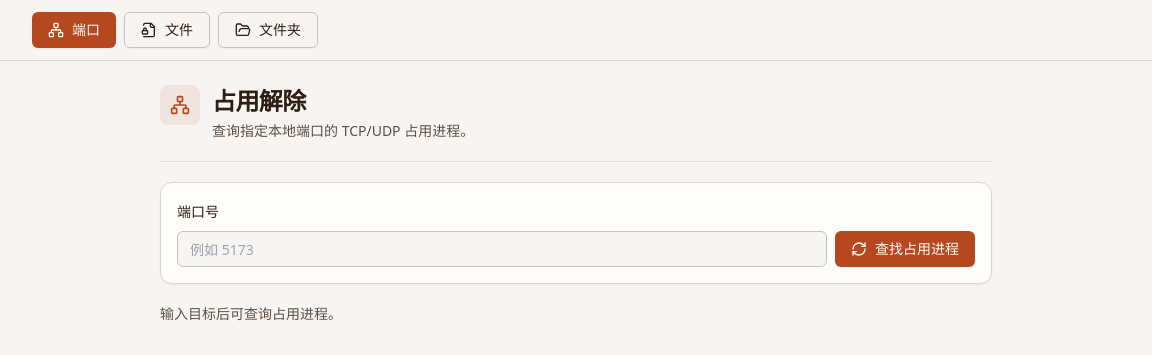
Test: Windows process tools › 拒绝无效端口
Click the button "查找占用进程" at (905, 249), box [835, 231, 975, 267]
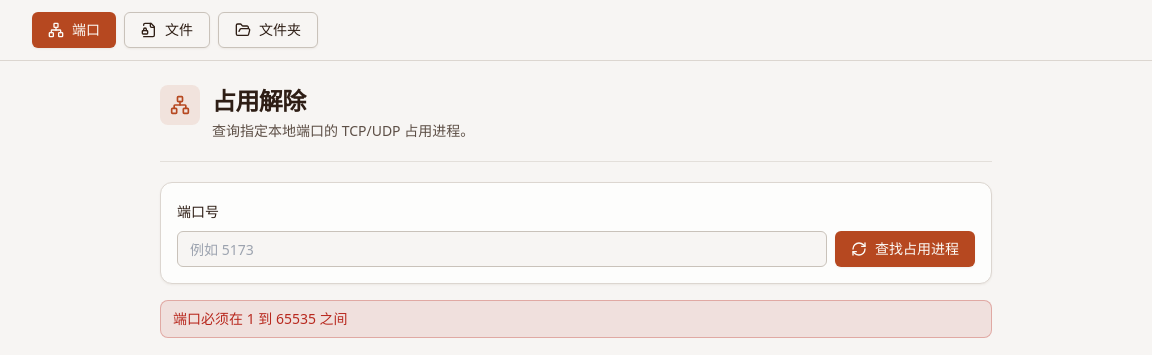
Now the message reads "端口必须在 1 到 65535 之间", box [173, 309, 348, 328]
